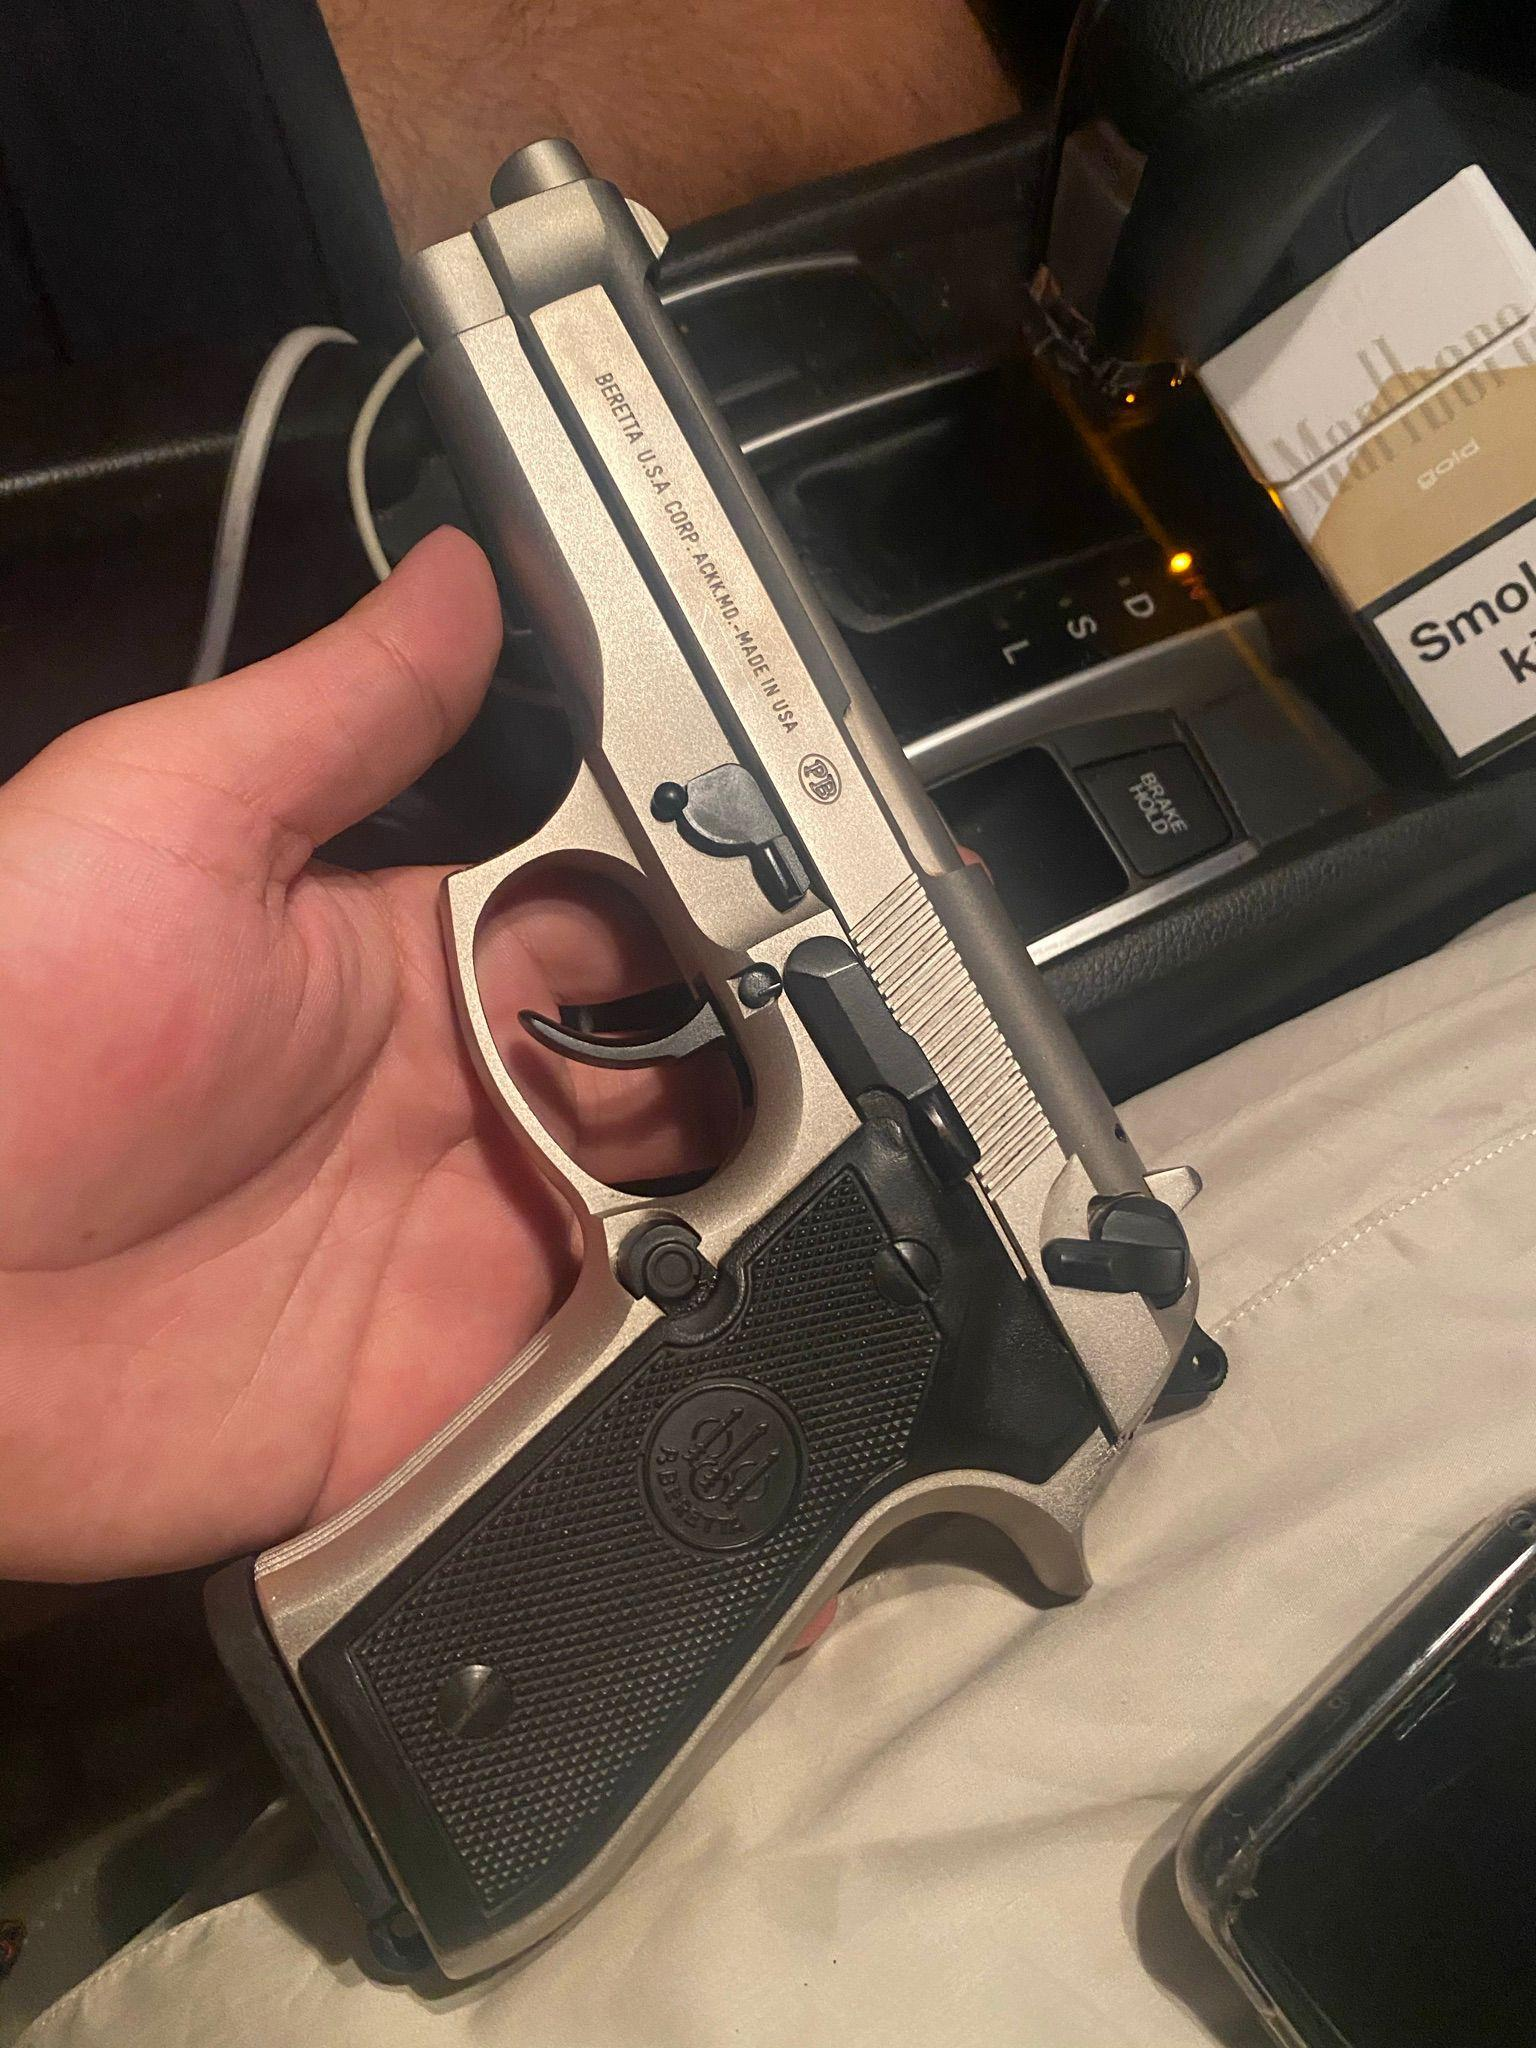weapon: (213, 136, 1226, 2002)
